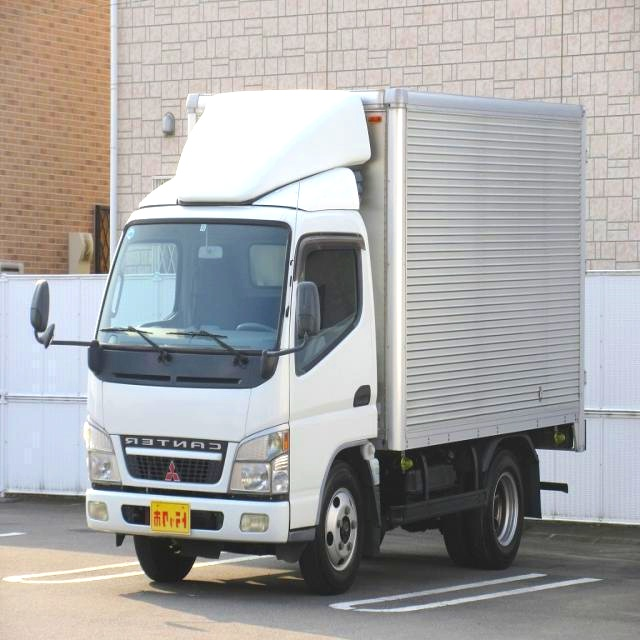truck: (19, 63, 600, 601)
